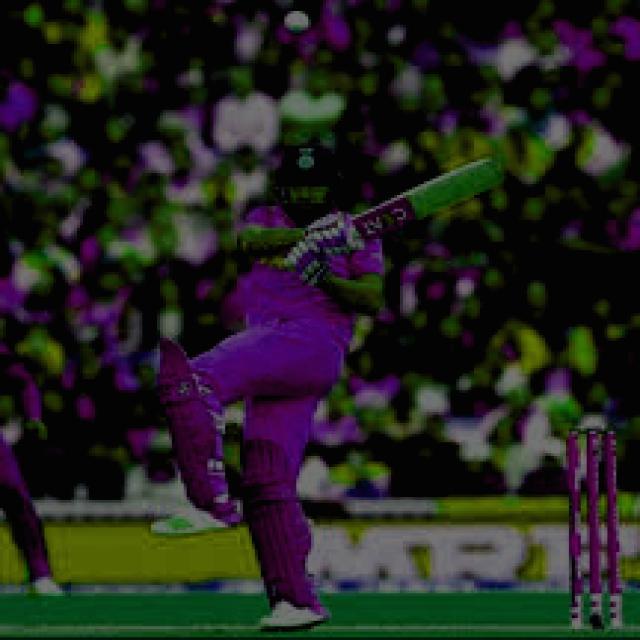toe: (478, 146, 511, 201)
